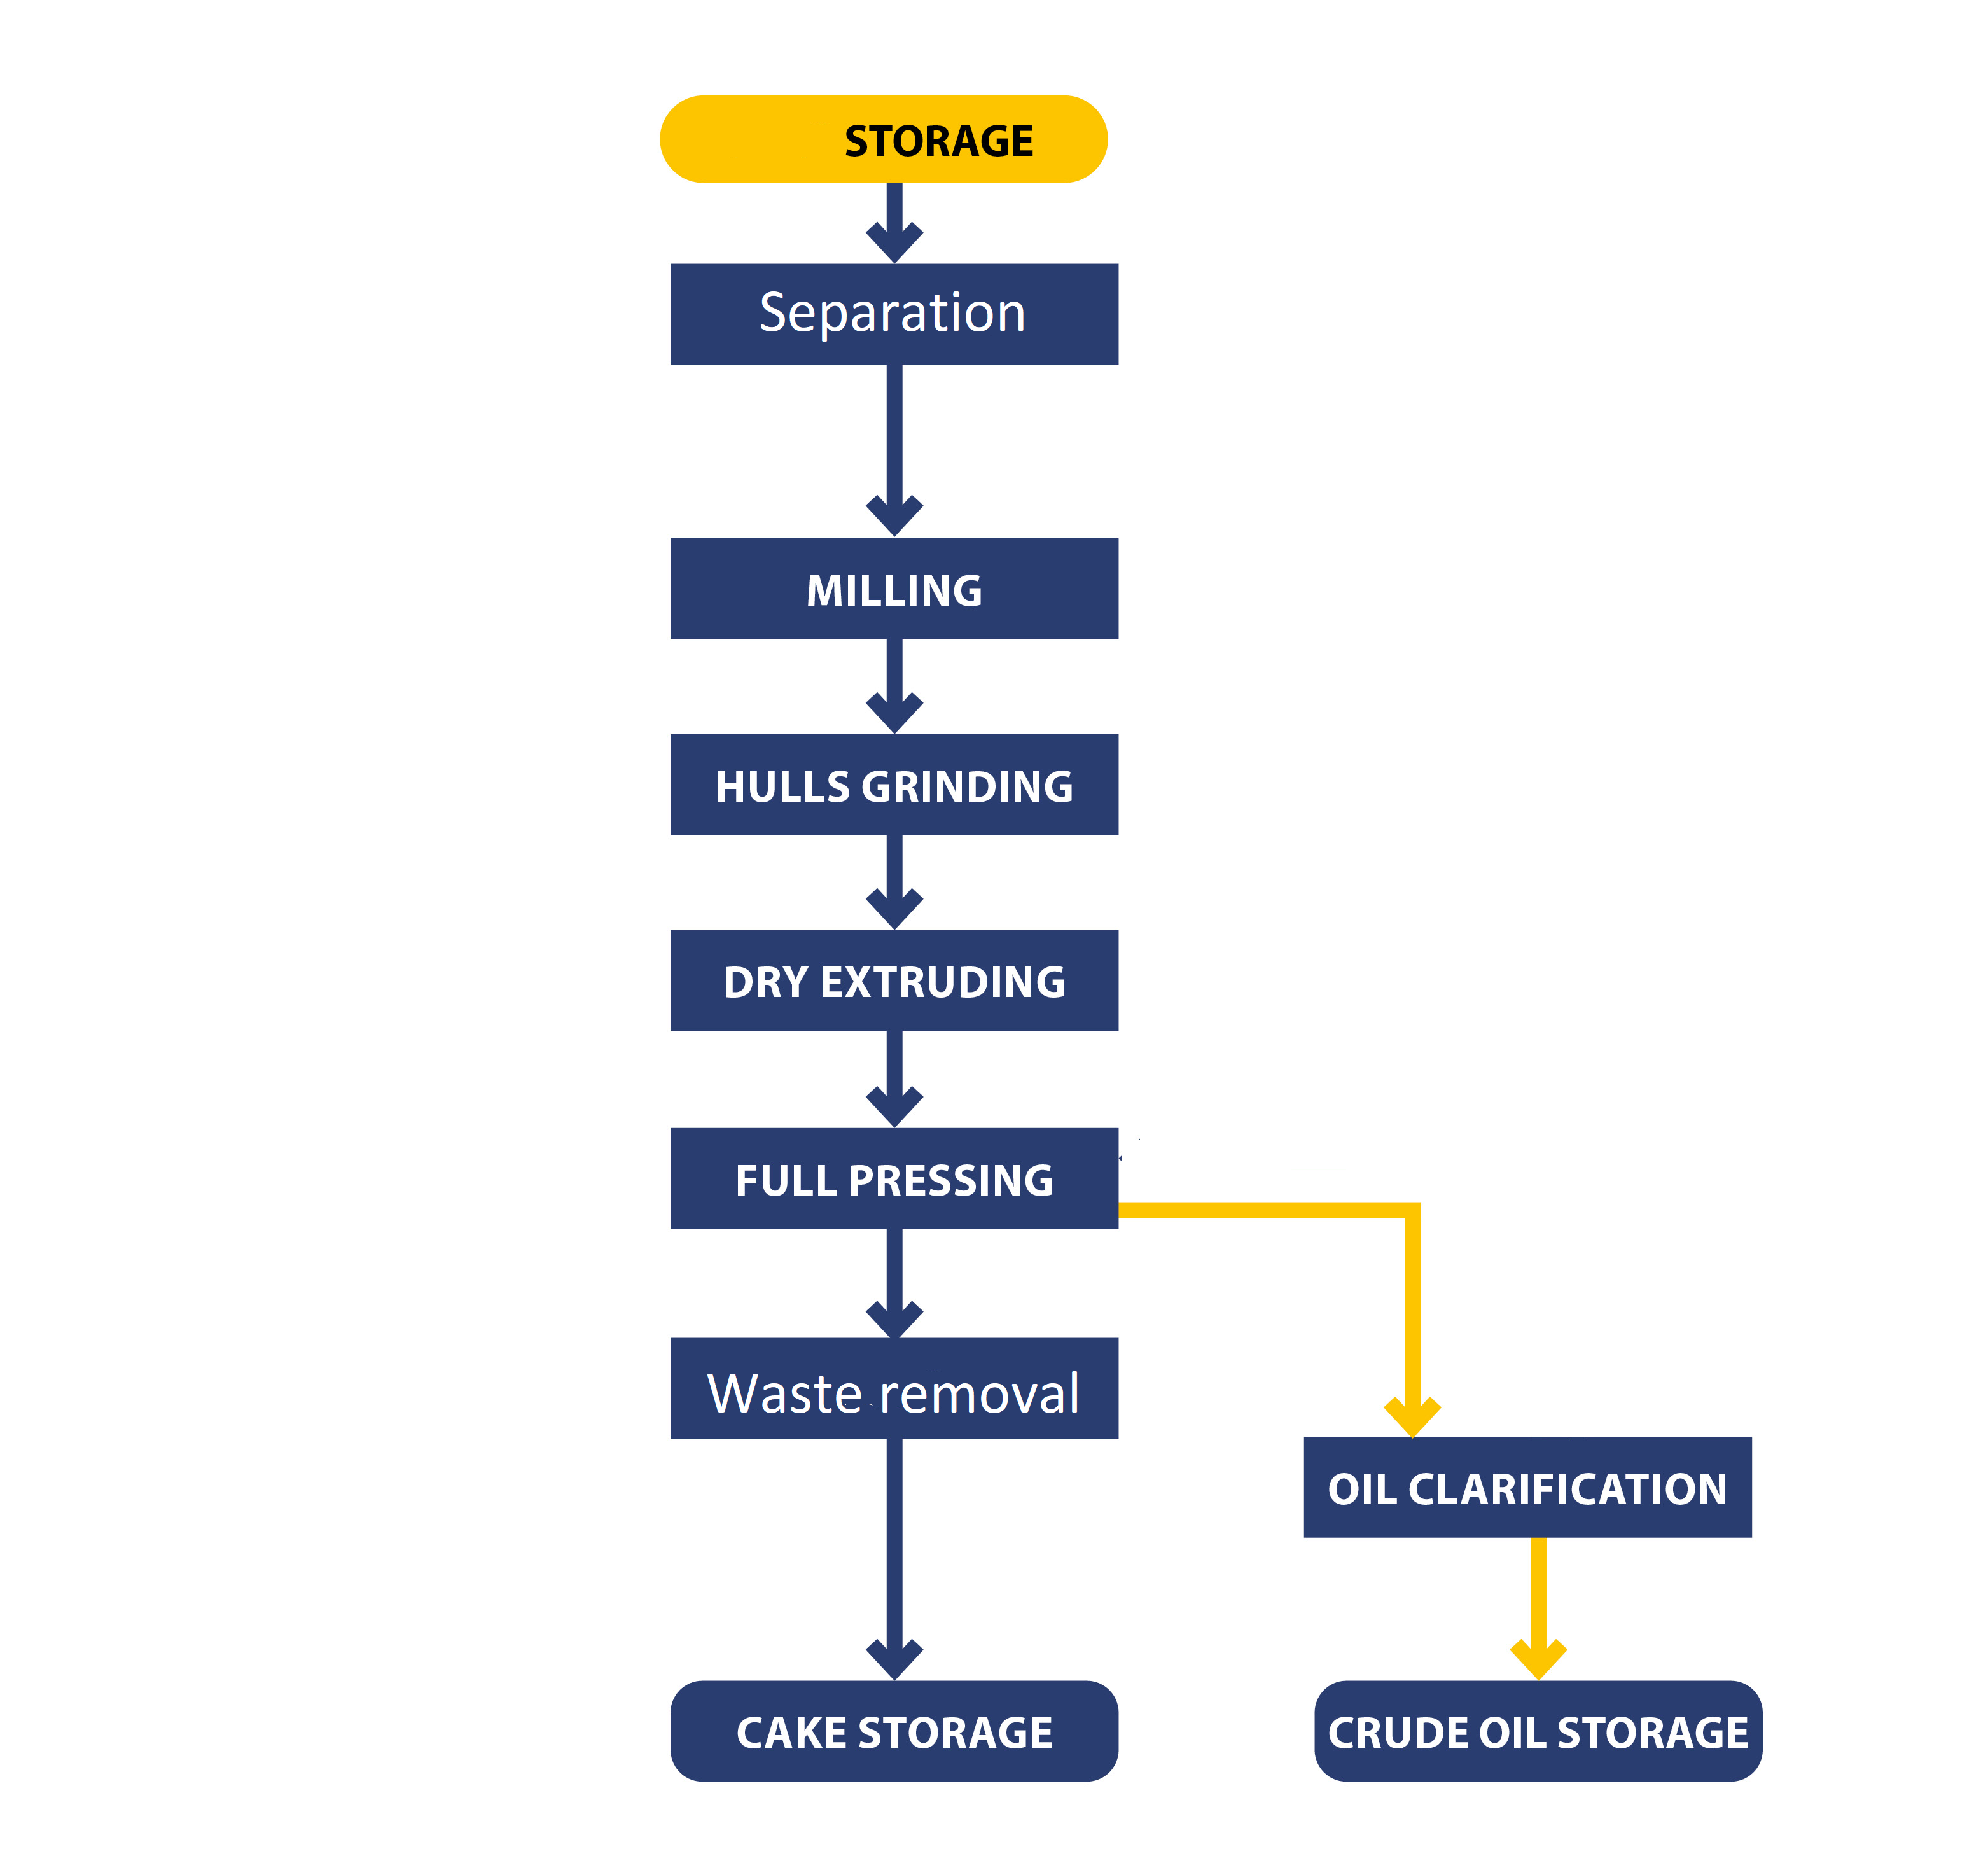arrow: (1107, 1195, 1442, 1450), (865, 1437, 928, 1694), (861, 349, 931, 532), (1507, 1532, 1569, 1694), (858, 1219, 926, 1341), (858, 820, 928, 937), (861, 628, 926, 745), (865, 1022, 923, 1137), (861, 174, 926, 269)
process: (666, 918, 1128, 1043), (666, 1668, 1134, 1788), (1304, 1669, 1775, 1786), (656, 256, 1137, 370), (663, 530, 1128, 647), (1290, 1430, 1761, 1546), (663, 1122, 1132, 1237), (666, 1331, 1128, 1444), (666, 727, 1132, 839)
terminator: (650, 85, 1111, 192)
text: (698, 1355, 1086, 1427), (1318, 1708, 1758, 1760), (1318, 1465, 1739, 1512), (755, 283, 1036, 352), (708, 759, 1076, 808), (729, 1702, 1060, 1757), (724, 1157, 1064, 1205), (715, 956, 1076, 1001), (799, 565, 989, 621), (839, 113, 1041, 160)
